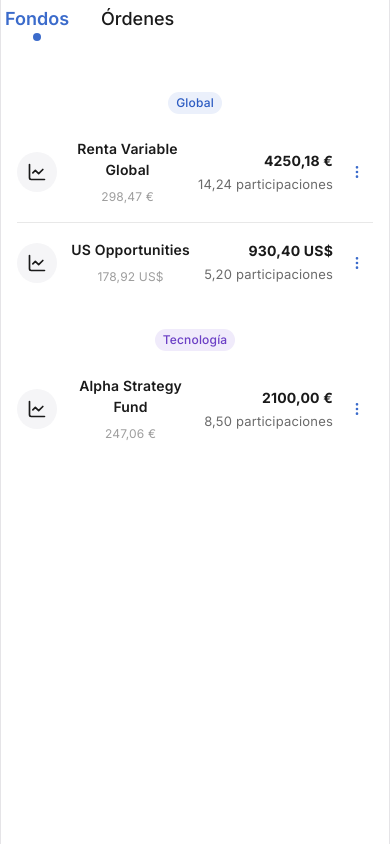
Scenario: PortfolioView › opens the sell dialog from the mobile card contextual menu
Step 1. Click the button named "acciones para alpha strategy fund" → x=357, y=409, box [341,393,373,425]
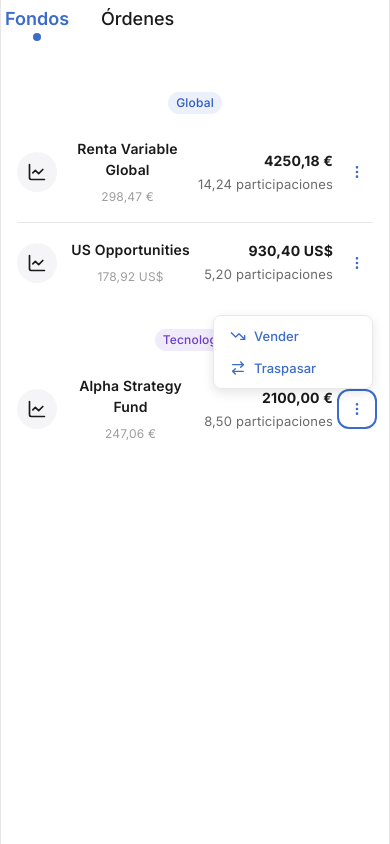
Now the menu item "Vender" is enabled
Now the menu item "Traspasar" is enabled, box [214,352,372,384]
Step 2. Click the menu item "Vender" → x=293, y=336, box [214,320,372,352]
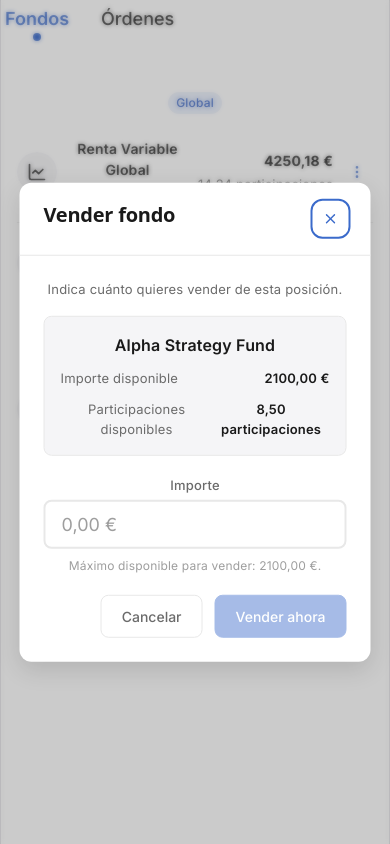
Now the dialog "Vender fondo" is shown, box [20,183,370,661]
